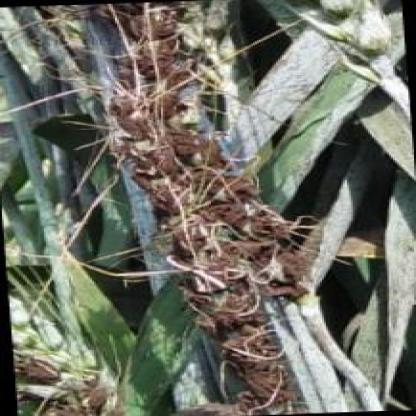Wheat Smut: (169, 204, 266, 235), (147, 170, 236, 196), (136, 43, 200, 78), (183, 245, 257, 274), (266, 242, 306, 294), (198, 281, 264, 309), (231, 347, 285, 374), (218, 314, 263, 340), (127, 131, 164, 162), (248, 380, 290, 406), (57, 399, 121, 415), (172, 134, 207, 161), (113, 102, 150, 126), (160, 96, 188, 124), (130, 16, 168, 33), (20, 360, 47, 379), (272, 214, 290, 235), (86, 381, 100, 392)
